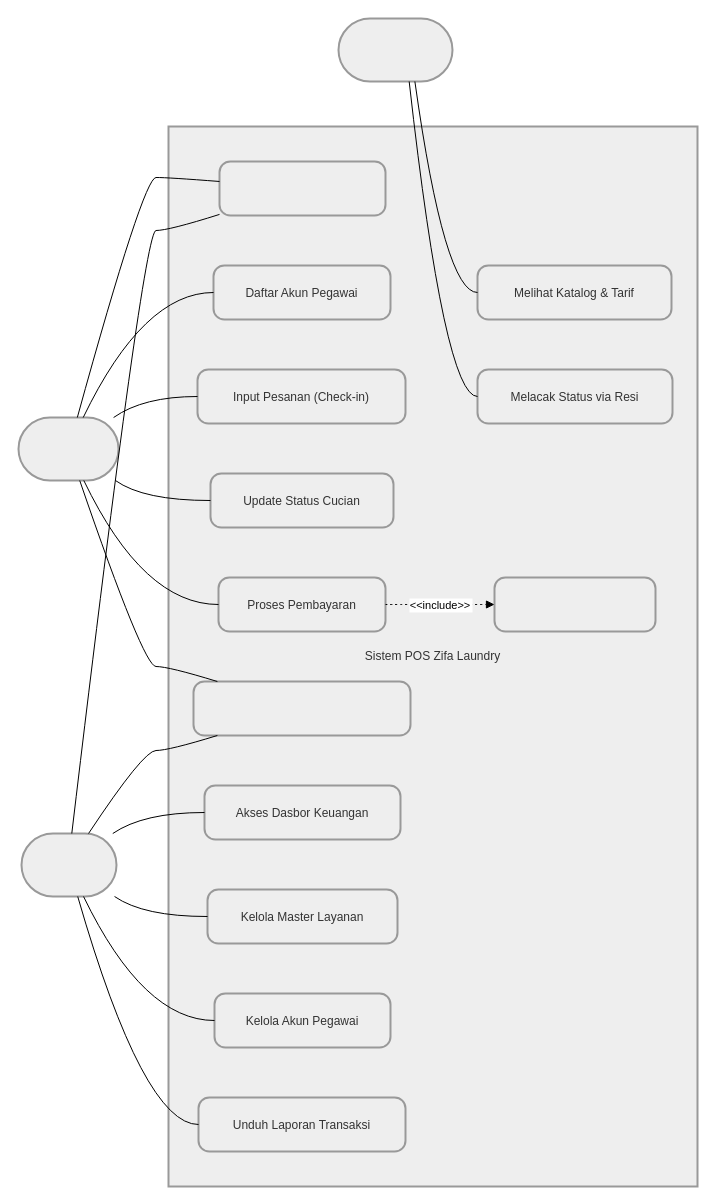
This 715x1204 diagram has some shape labels left out. Each missing label, with the centre of its shape:
"Cetak Nota Digital" belongs at point (574, 604).
"Customer (Pelanggan)" belongs at point (395, 49).
"Employee (Kasir)" belongs at point (68, 448).
"Login / Autentikasi" belongs at point (302, 188).
"Mencari Riwayat Transaksi" belongs at point (301, 708).
"Owner (Pemilik)" belongs at point (68, 864).
